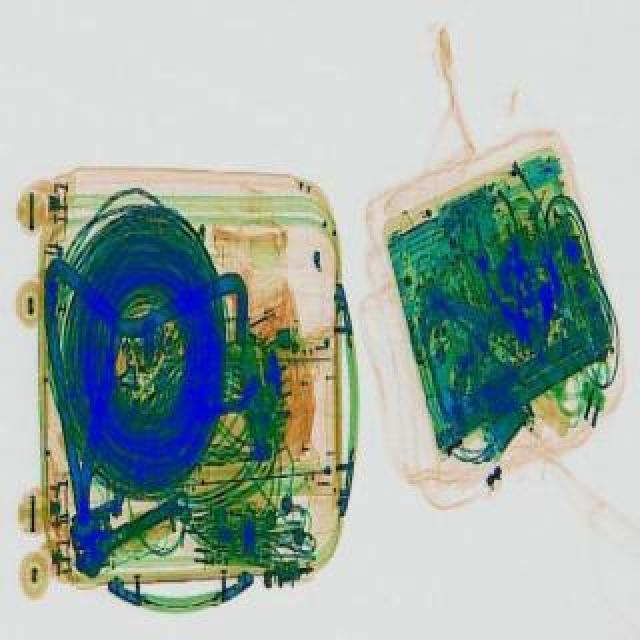scissors: (66, 478, 202, 578)
wrench: (470, 218, 558, 362)
